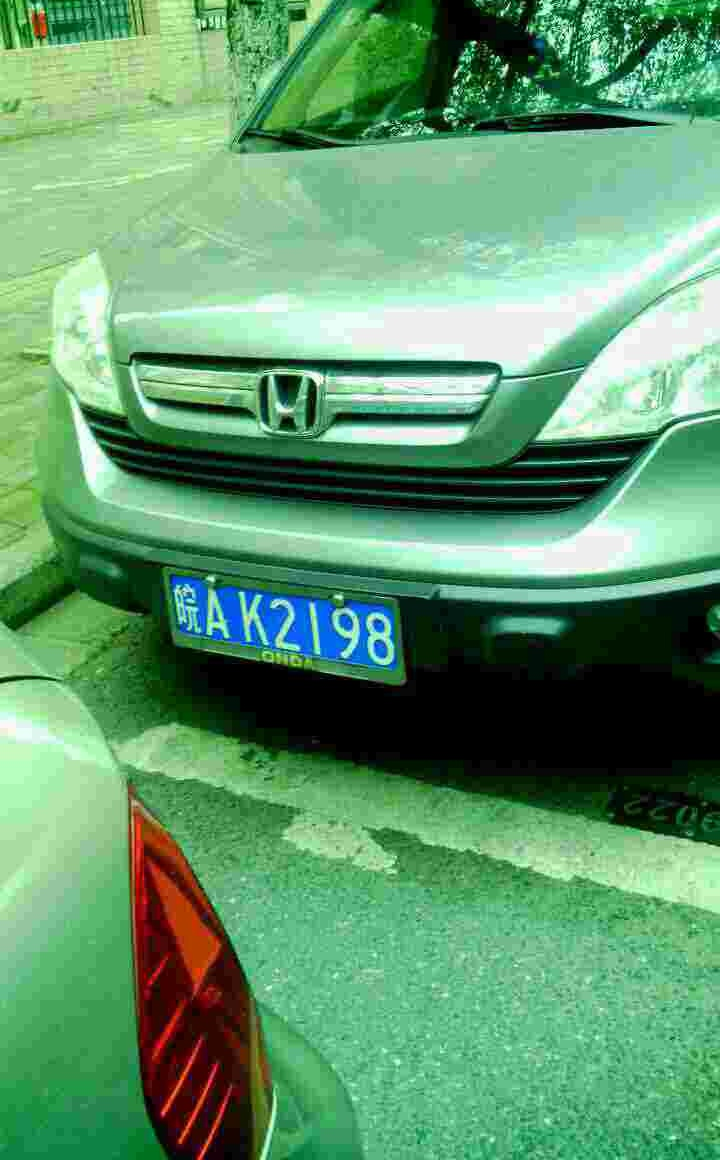license_plate: (173, 581, 415, 677)
